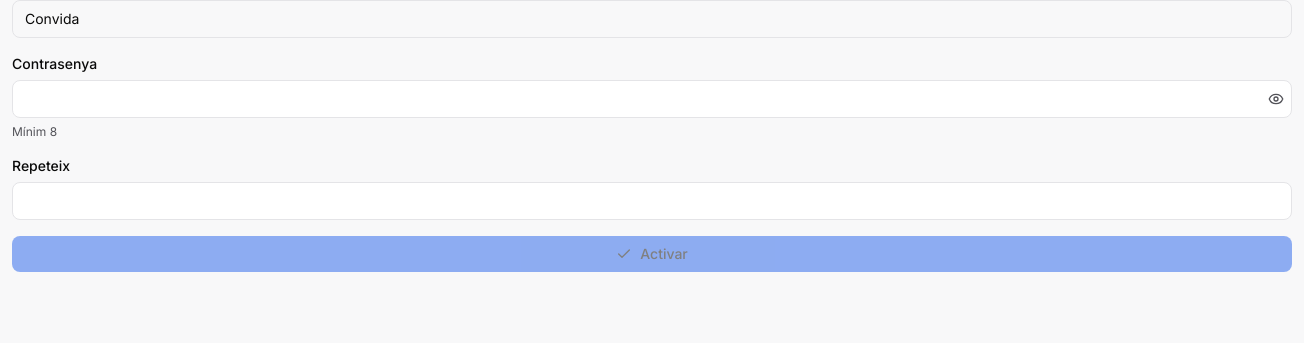
Scenario: AcceptInvitationForm › shows the user-facing error on failure
In the password field labelled "Contrasenya": x=652, y=99 [12, 80, 1292, 118], type "ValidP@ss1"
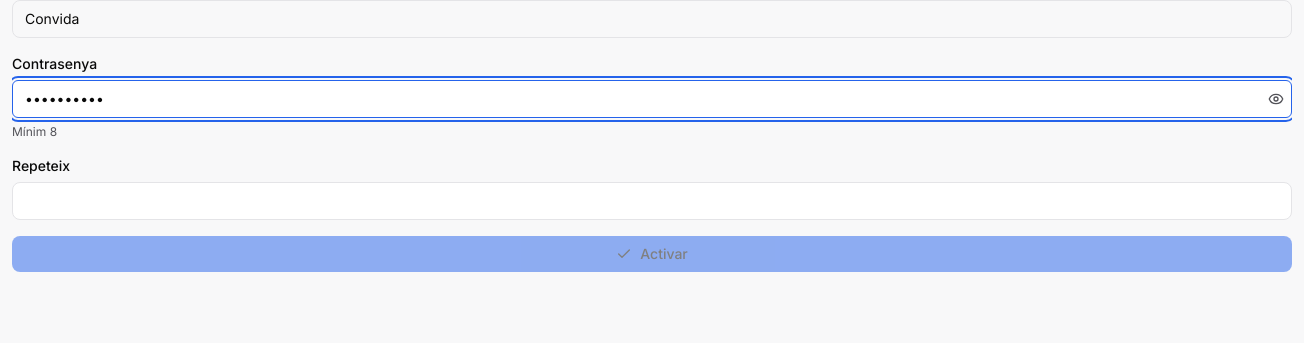
In the password field labelled "Repeteix": x=652, y=201 [12, 182, 1292, 220], type "ValidP@ss1"
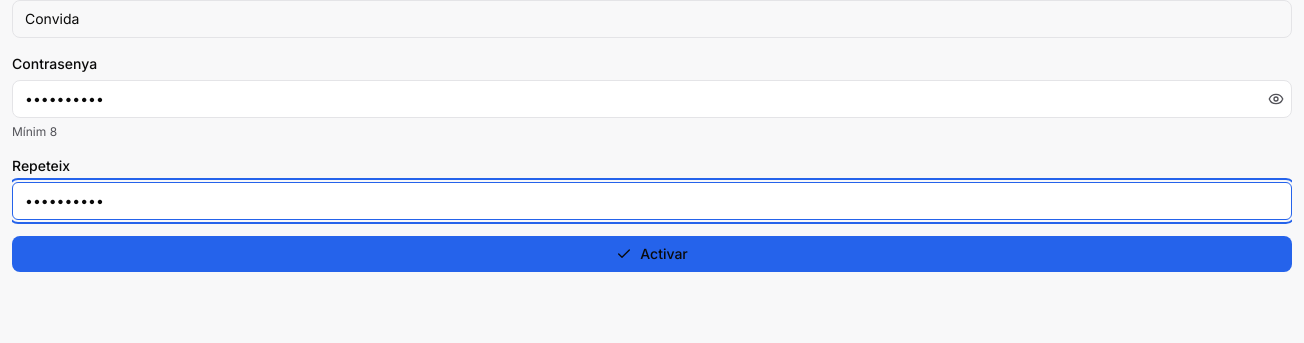
Click the button "Activar": x=652, y=254 [12, 236, 1292, 272]
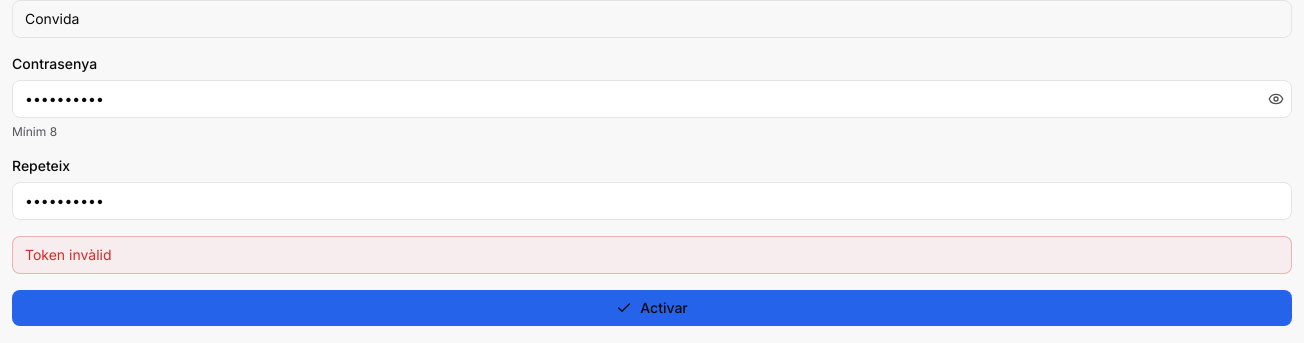
Expected: the text "Token invàlid" is shown, [12, 236, 1292, 274]
